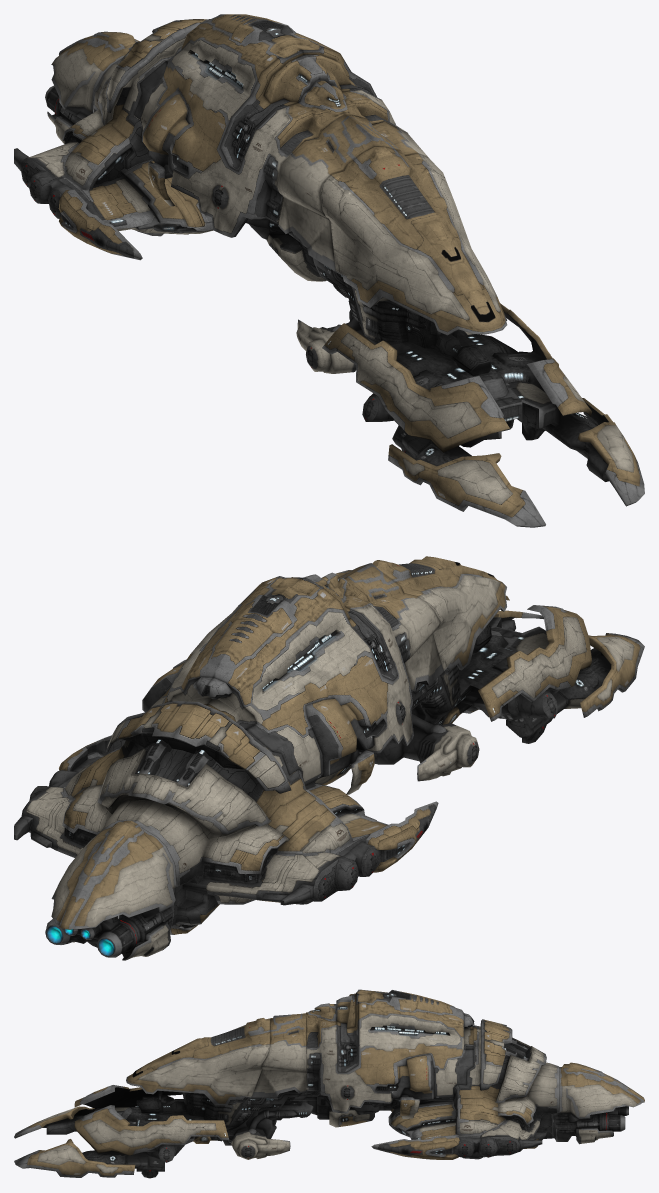
The model's file is 29986_Legion3222_lite.glb.
The picture shows the model from 3 angles, top to bottom: view 1: azimuth 30°, elevation 25°; view 2: azimuth 150°, elevation 25°; view 3: azimuth 270°, elevation 25°; orthographic projection. The views are drawn at different scales.
Parts seen in each view (by area): view 1: asc1_t3_s1v3, asc1_t3_s2v2, asc1_t3_s3v2, asc1_t3_s4v2; view 2: asc1_t3_s3v2, asc1_t3_s2v2, asc1_t3_s1v3, asc1_t3_s4v2; view 3: asc1_t3_s1v3, asc1_t3_s2v2, asc1_t3_s3v2, asc1_t3_s4v2.
Boxes of the visible parts, bbox=[...] form: asc1_t3_s1v3: bbox=[277, 114, 644, 527]; asc1_t3_s2v2: bbox=[134, 14, 408, 281]; asc1_t3_s3v2: bbox=[14, 19, 306, 260]; asc1_t3_s4v2: bbox=[45, 31, 142, 143]; asc1_t3_s3v2: bbox=[14, 701, 438, 934]; asc1_t3_s2v2: bbox=[142, 572, 413, 794]; asc1_t3_s1v3: bbox=[335, 556, 644, 781]; asc1_t3_s4v2: bbox=[45, 821, 176, 960]; asc1_t3_s1v3: bbox=[14, 1013, 313, 1178]; asc1_t3_s2v2: bbox=[290, 989, 474, 1127]; asc1_t3_s3v2: bbox=[371, 1019, 559, 1159]; asc1_t3_s4v2: bbox=[552, 1062, 644, 1144].
Size of the model in its own units: 1.69 by 1.33 by 4.51.
4 materials, 4 textured.
